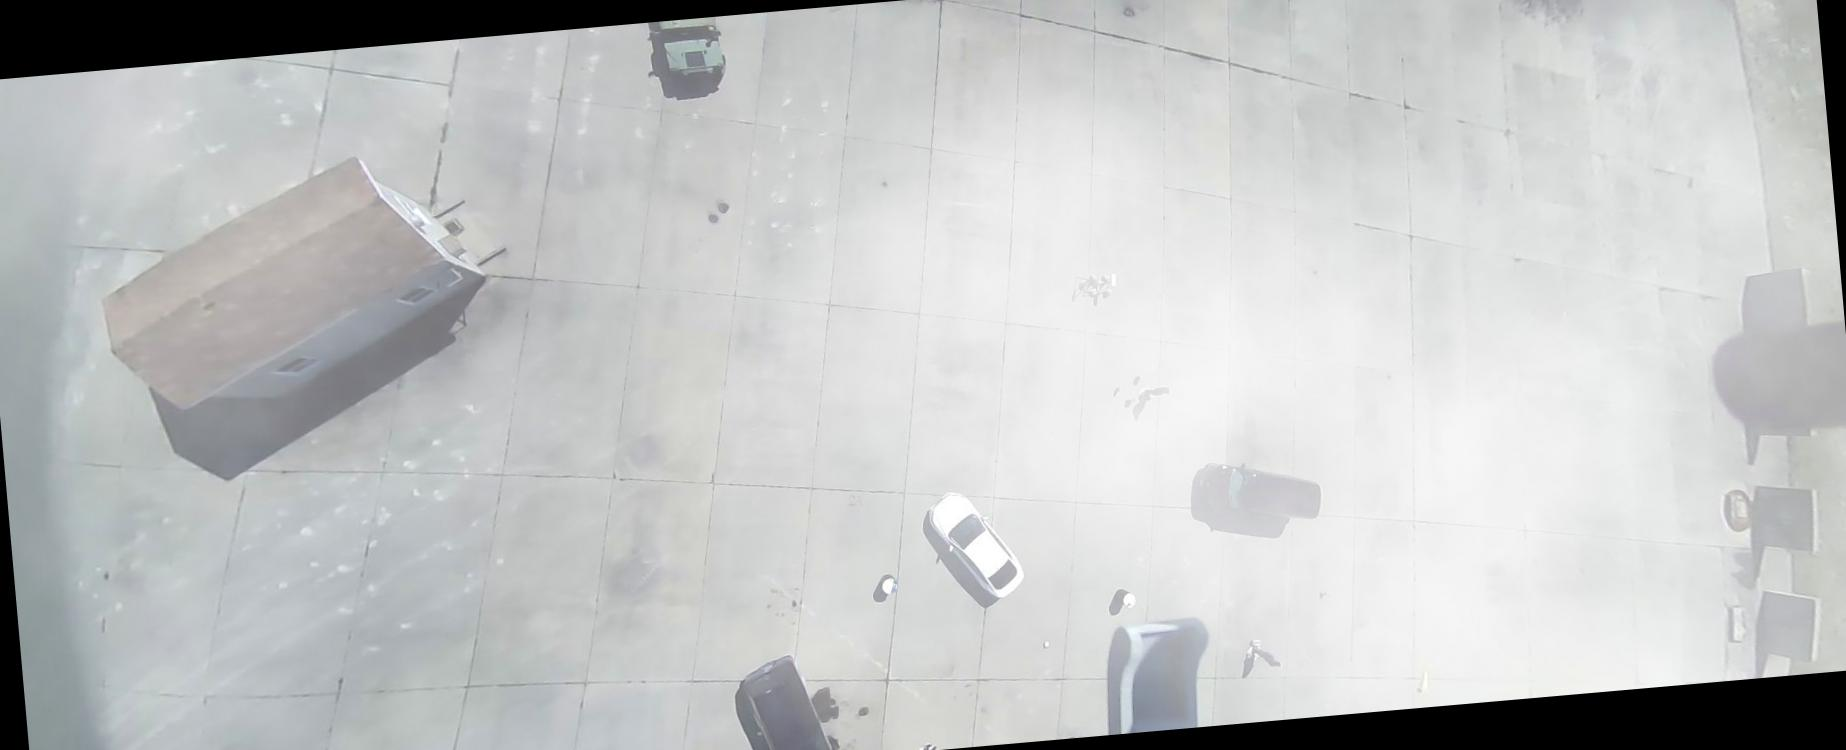vehicle: (925, 486, 1027, 605), (742, 650, 843, 749), (1196, 455, 1323, 529)
